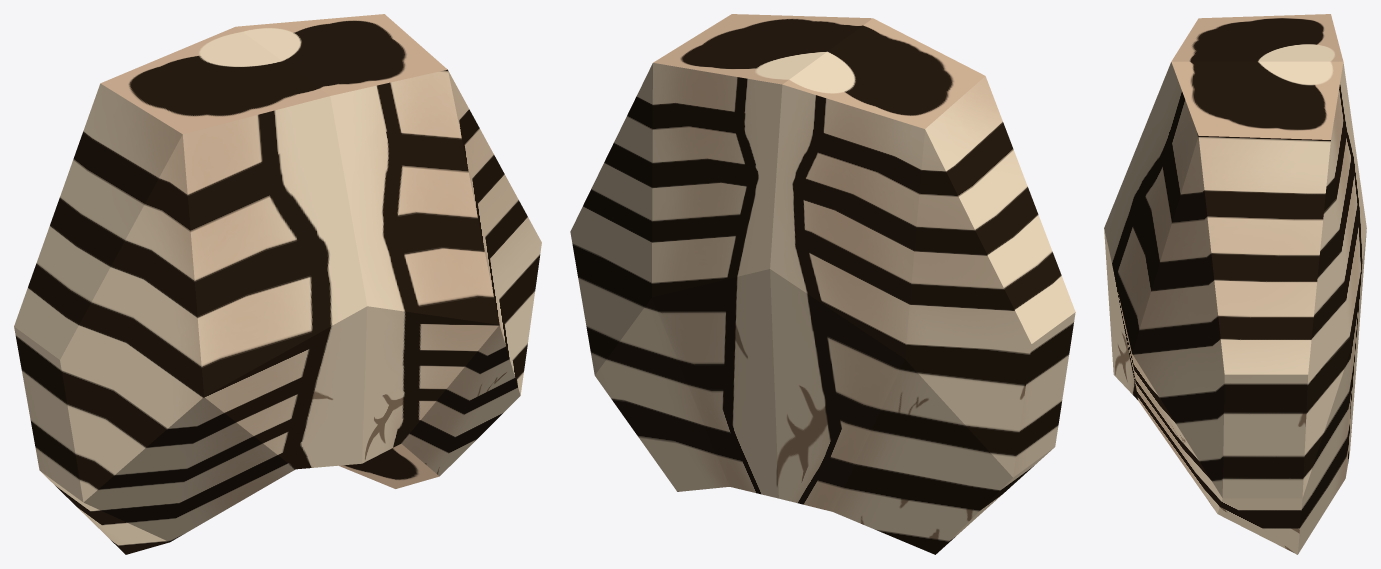
The model's file is RibCage.fbx.
3 renders of one model, left to right at view 1: azimuth 30°, elevation 25°; view 2: azimuth 150°, elevation 25°; view 3: azimuth 270°, elevation 25°, orthographic. The views are drawn at different scales.
Visible parts, largest first — view 1: RibCage; view 2: RibCage; view 3: RibCage.
Boxes of the visible parts, x1,y1,x2,y2 form: RibCage: [14, 14, 541, 554]; RibCage: [570, 14, 1075, 554]; RibCage: [1104, 14, 1366, 554].
Bounding box in the file's own units: 580 × 549 × 302.
